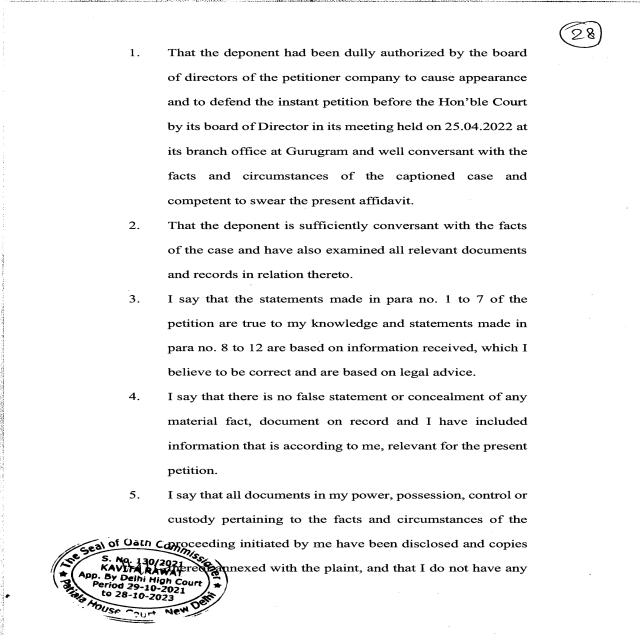page-number: (532, 0, 640, 63)
